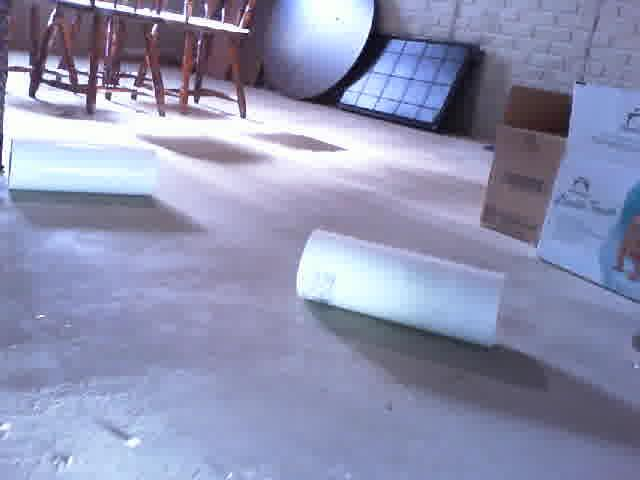coral: (292, 221, 514, 352), (5, 135, 162, 202)
